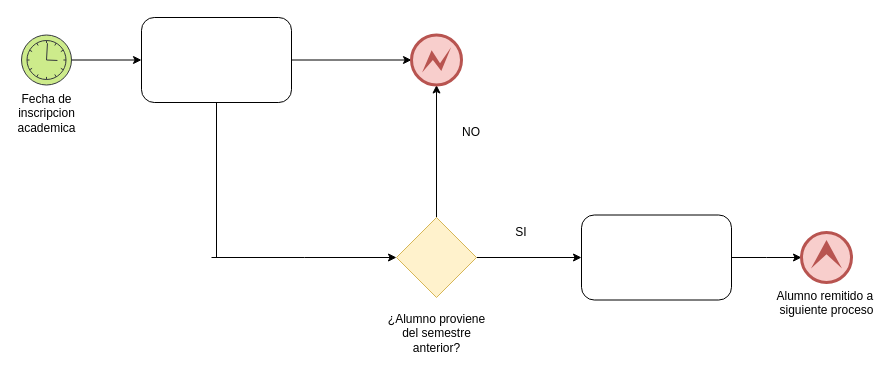
Some shapes in this 893 by 385 pixel diagram are drawn without their labels. The shapes that lost their labels are listed below. From the top down, each one's centre as x and y in pixels, then its label:
the point at 216,59: Entregar recaudos
the point at 656,257: Inscribir al alumno en sistema
